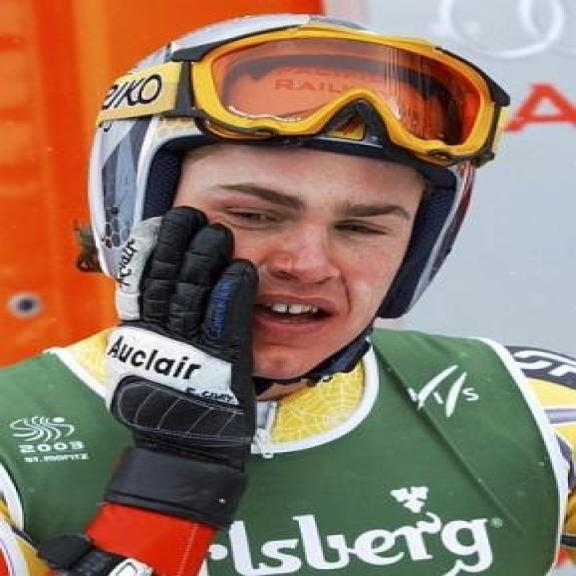face: (179, 166, 422, 387)
